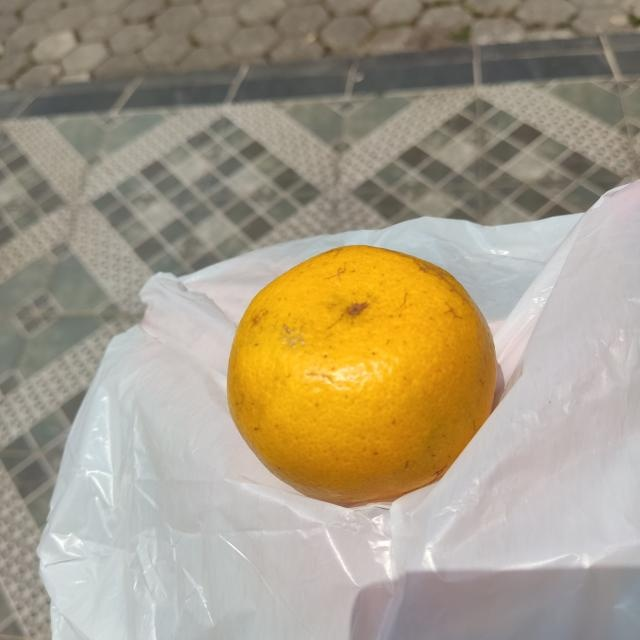agrume: (225, 243, 501, 509)
